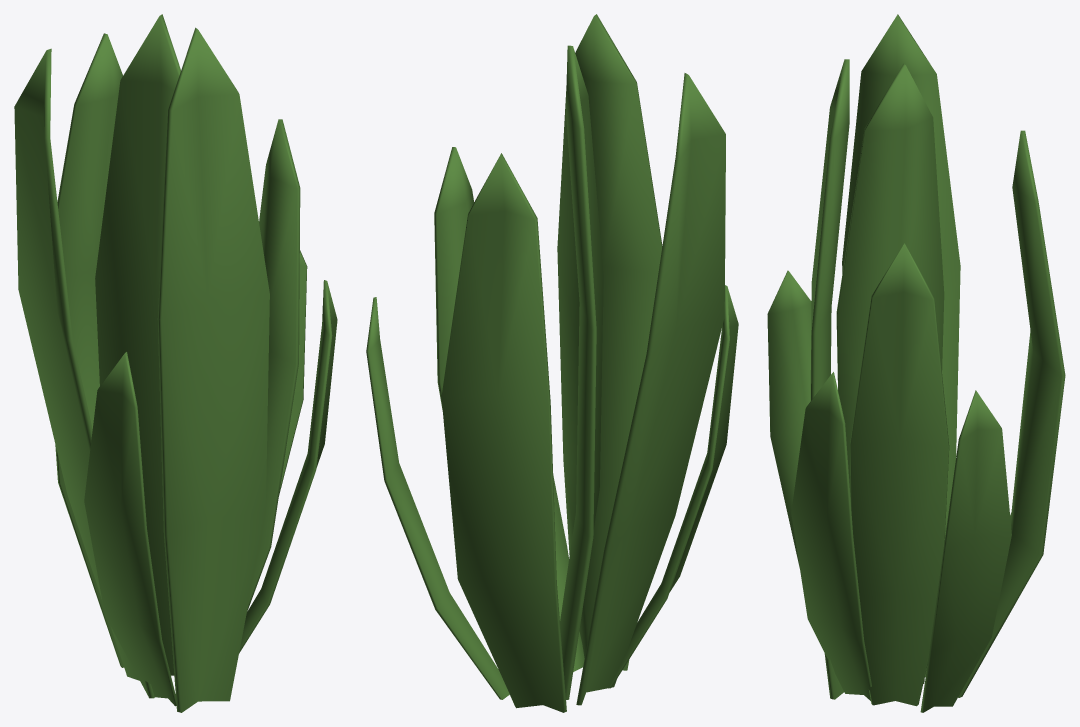
File: GrassyPlant1.fbx
3 views of the same model, side by side, from view 1: azimuth 30°, elevation 25°; view 2: azimuth 150°, elevation 25°; view 3: azimuth 270°, elevation 25° (orthographic). The views are drawn at different scales.
Parts seen in each view (by area): view 1: grassyplant1; view 2: grassyplant1; view 3: grassyplant1.
Part boxes in pixels (<box>): grassyplant1: <box>14,14,337,712</box>; grassyplant1: <box>366,14,738,712</box>; grassyplant1: <box>767,14,1065,712</box>.
Size of the model in its own units: 50.37 by 103 by 44.19.
